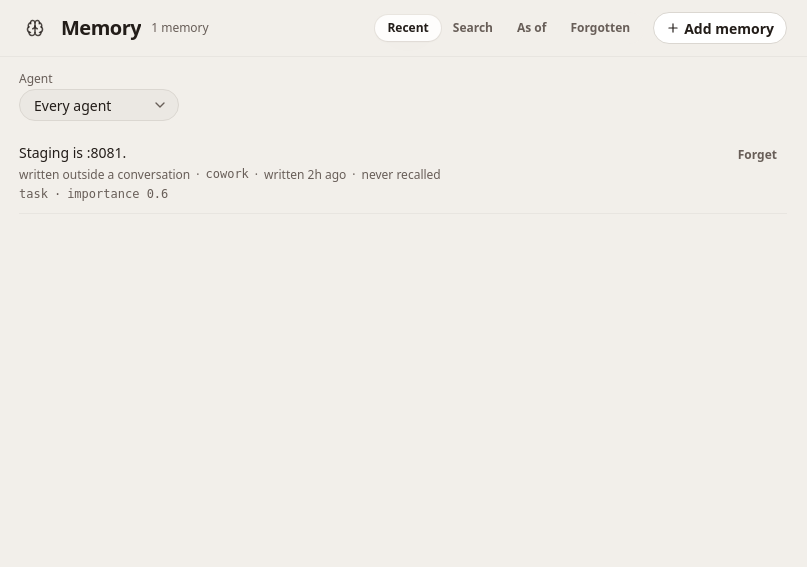
the composition the second critique asked for › confirms an added memory, names the agent, and marks the row
Click the button "Add memory": click(720, 28) [653,12,787,44]
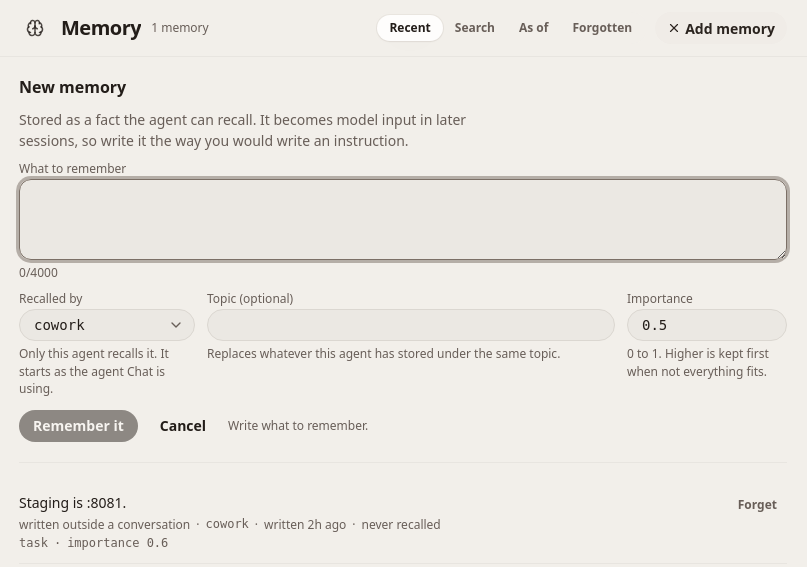
Expected: the text "It starts as the agent Chat is using" is shown, [19,345,169,397]
In the text box labelled "What to remember": (403, 220) [19,179,787,260], type "Staging is :8081."
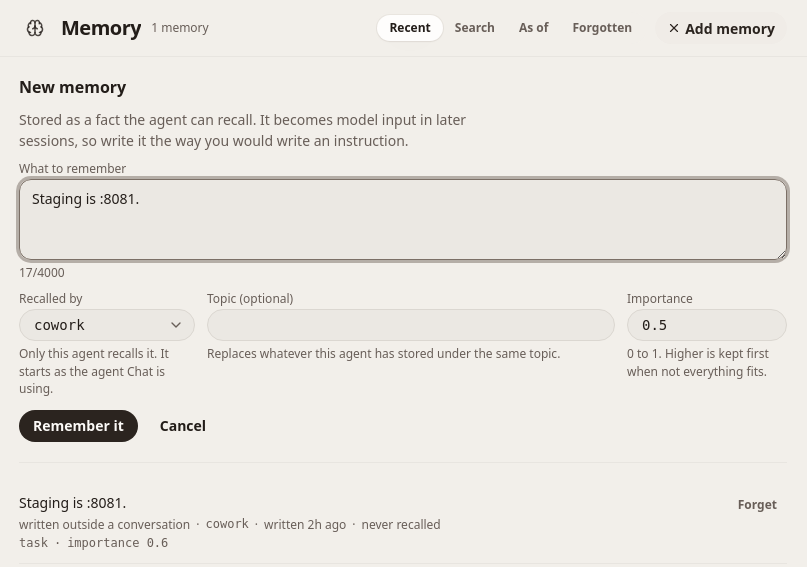
Click the button "Remember it": click(78, 426) [19,410,138,442]
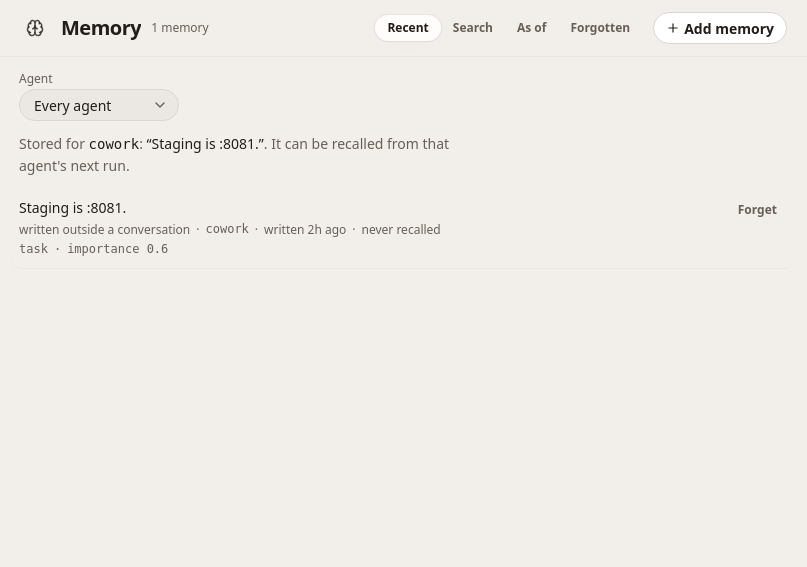
Expected: the text "It can be recalled from that agent's next run" shows "Stored for cowork: “Staging is :8081.”", [19,133,499,176]
